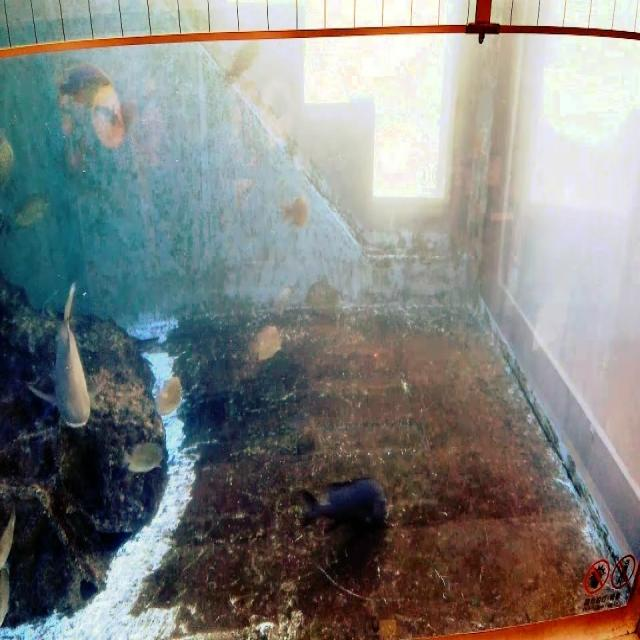gold snapper: (146, 364, 187, 428), (243, 312, 288, 368), (117, 436, 169, 482)
other black fish: (284, 458, 400, 544)
shark: (22, 276, 111, 438)
